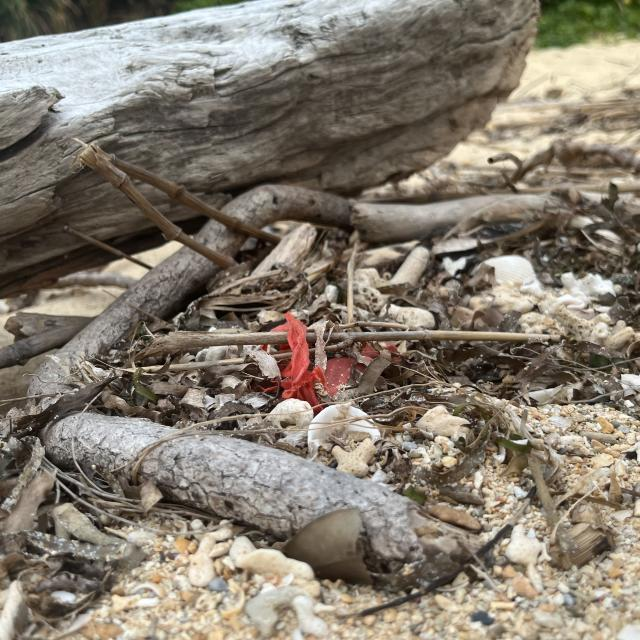stick: (3, 177, 598, 592)
trash: (262, 312, 406, 429)
